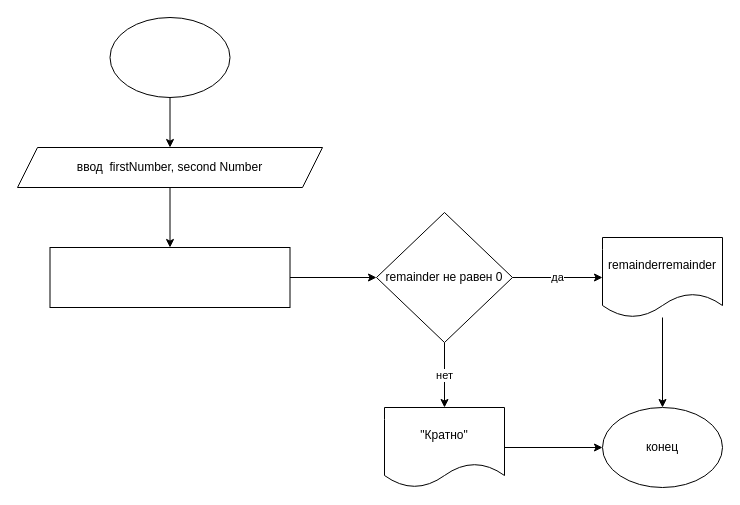
This 740x505 diagram has some shape labels left out. Here are the shapes that lost their labels. From the top down, the centre of each, then its label:
[169,57]: начало
[169,277]: remainder = ввод firstNumber mod second Number
